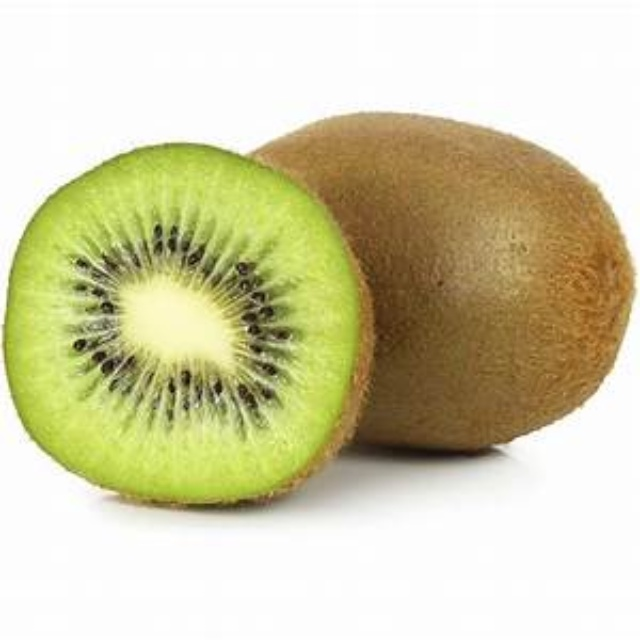kiwi: (245, 109, 631, 461), (12, 143, 374, 514)
